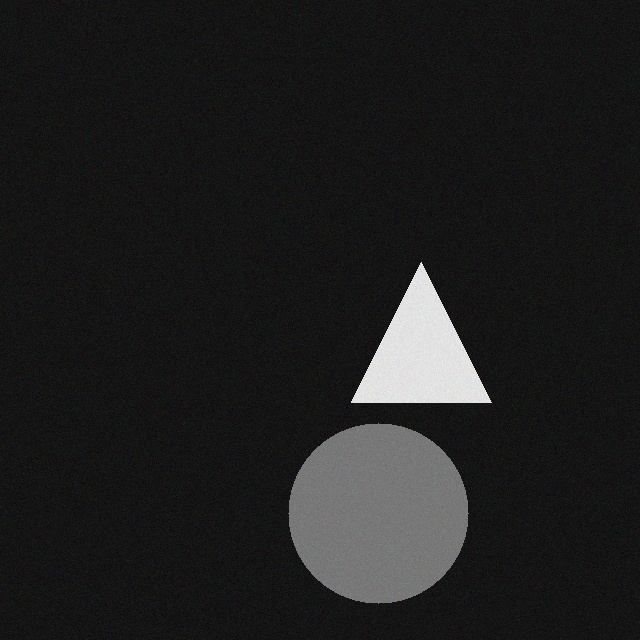circle: (287, 437, 467, 617)
triangle: (350, 276, 490, 416)
